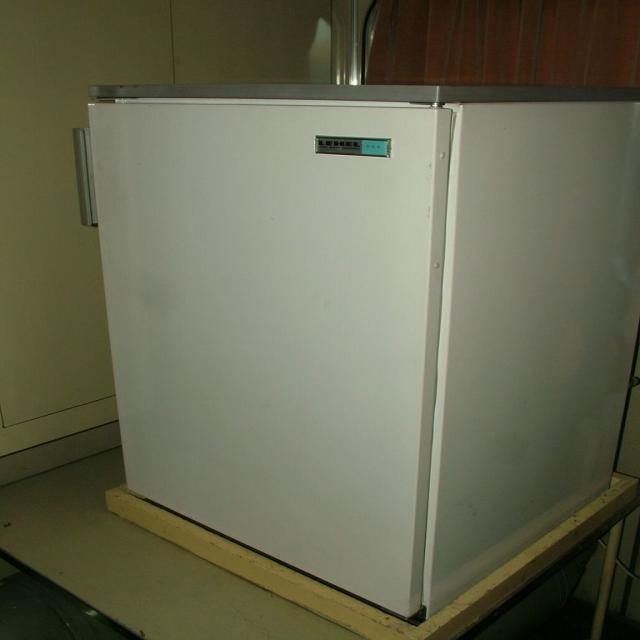refrigerator: (81, 73, 640, 612)
